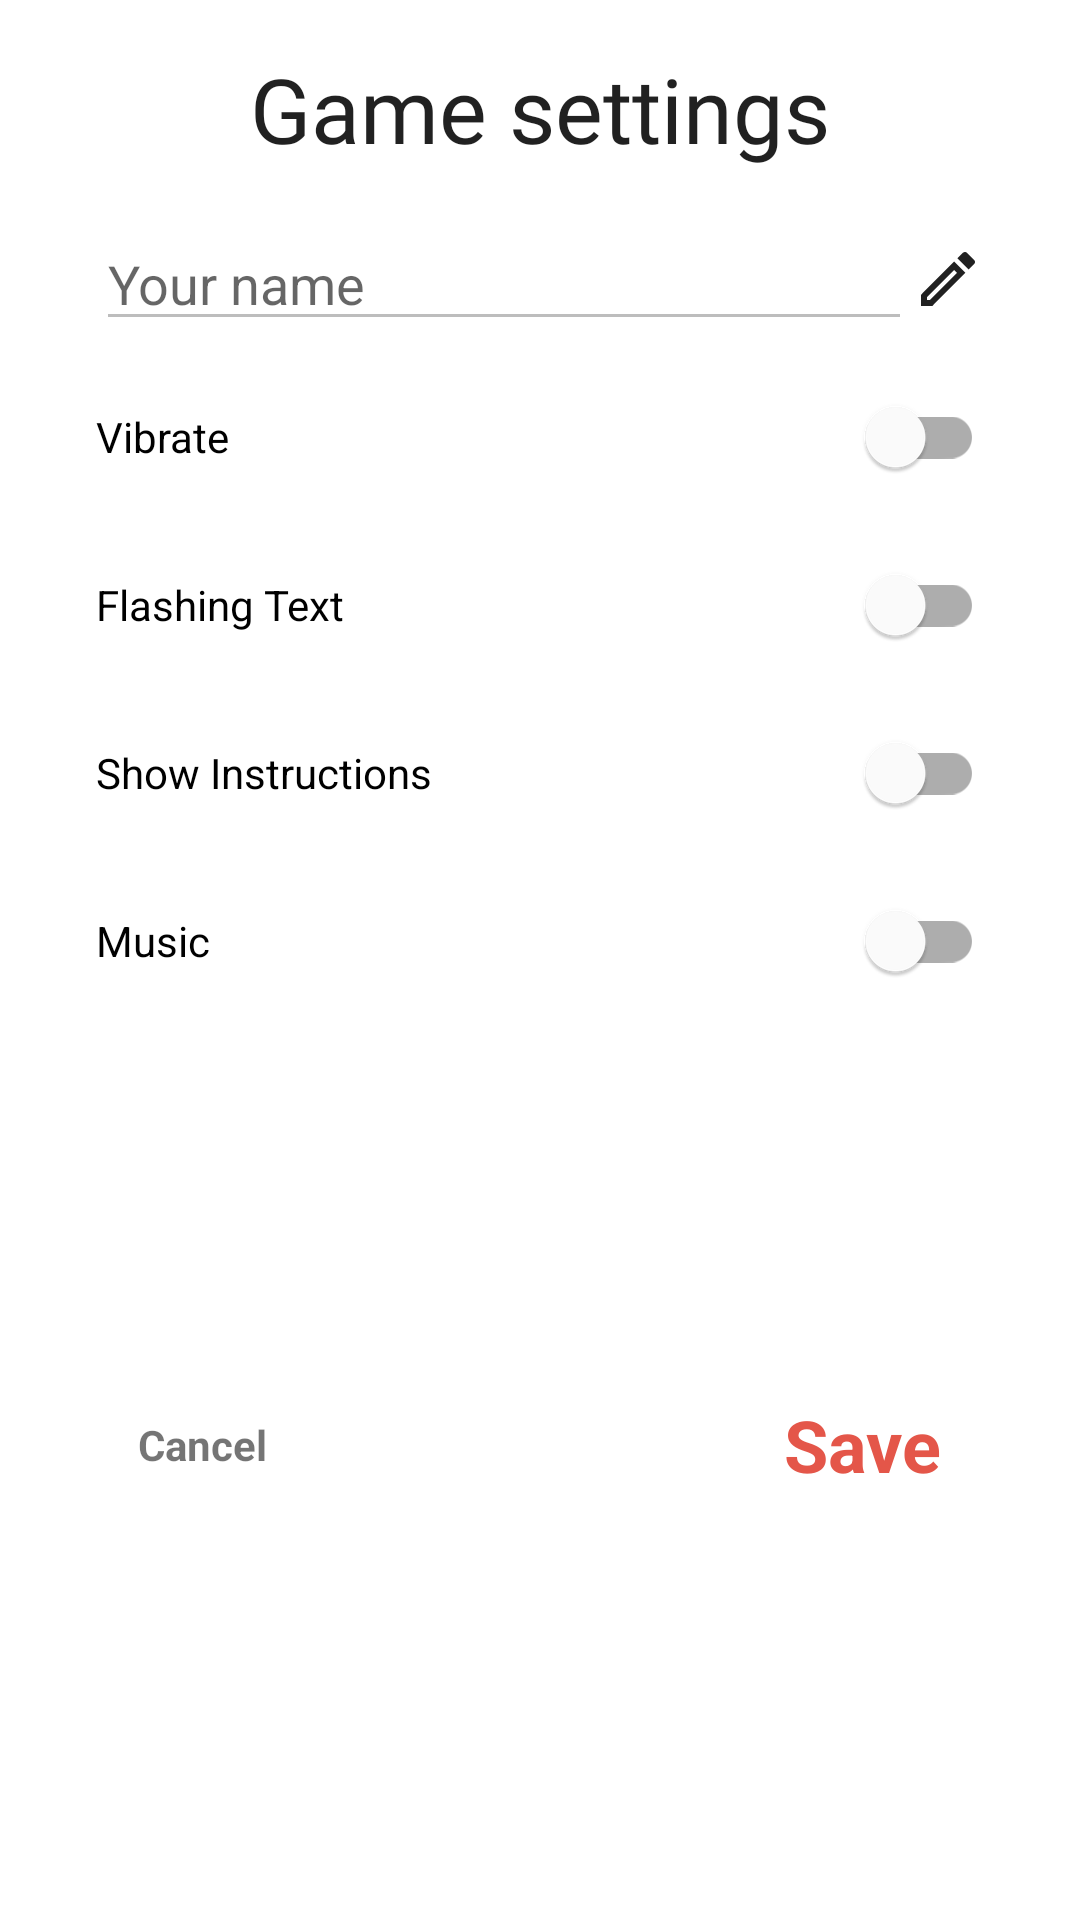

Icons on this 1080x1920 Android screen, each with the point to tap as (x=x, y=y):
Edit Name: (x=948, y=279)
